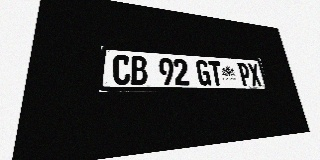2: (173, 58, 189, 86)
9: (158, 58, 175, 85)
B: (131, 56, 148, 85)
C: (113, 55, 130, 85)
G: (196, 60, 212, 86)
P: (237, 63, 252, 86)
T: (208, 61, 224, 86)
X: (247, 63, 262, 86)
